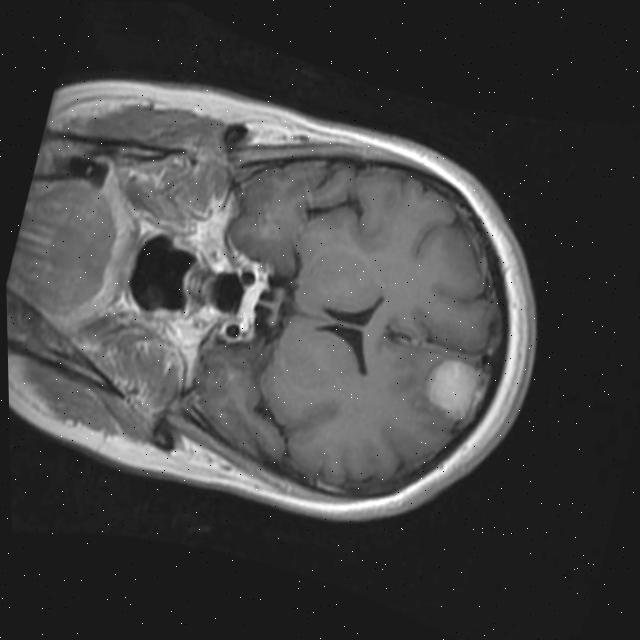Meningioma: (416, 351, 485, 427)
